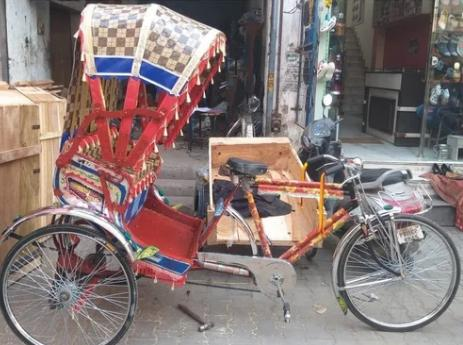objects: (0, 4, 460, 344)
